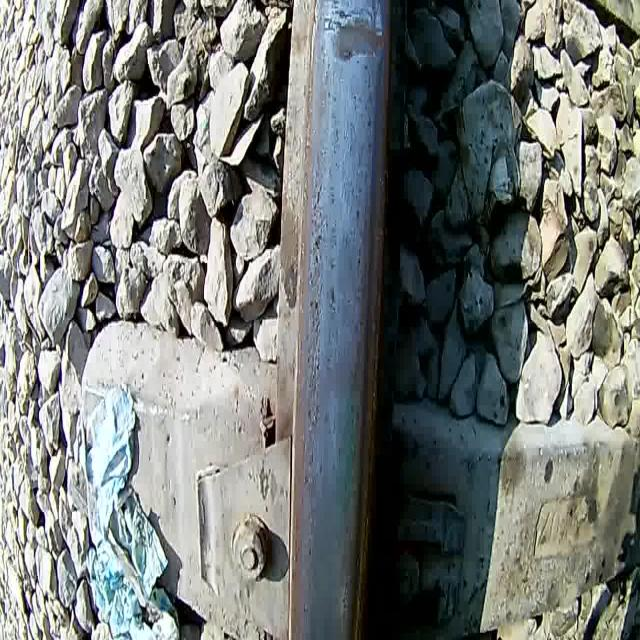Squats: (321, 0, 394, 69)
